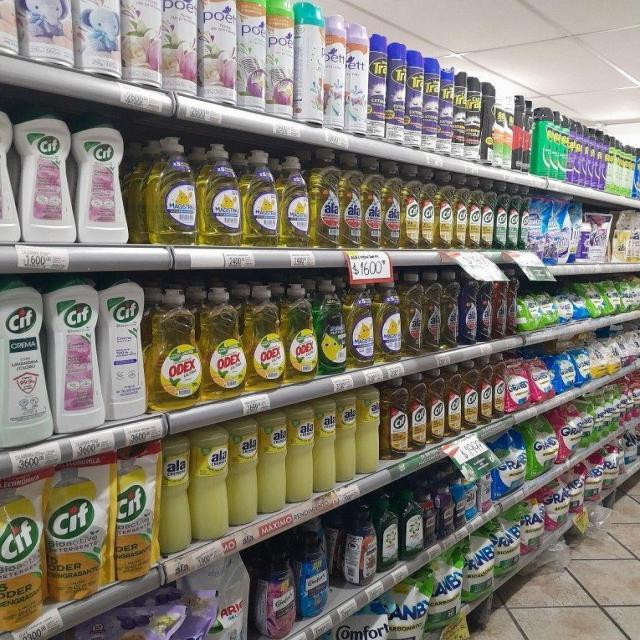ala_conc_amarillo: (311, 152, 339, 248), (340, 156, 360, 249), (361, 159, 381, 249), (382, 165, 401, 249), (402, 273, 421, 357), (422, 271, 440, 354), (441, 271, 458, 350)
ala_conc_azul: (459, 272, 477, 346), (478, 274, 492, 342)
ala_conc_rojo: (493, 278, 506, 339), (506, 278, 516, 338)
ala_crem_amarillo: (191, 424, 228, 541), (160, 433, 190, 555), (229, 416, 258, 526), (259, 409, 286, 514), (288, 403, 314, 503), (357, 384, 381, 474), (314, 395, 336, 493), (336, 391, 356, 483)
cif_conc_bot_amarilla: (382, 376, 408, 460), (401, 168, 420, 249), (409, 372, 427, 451), (428, 368, 445, 443), (446, 363, 462, 437), (420, 177, 436, 250), (437, 178, 453, 249), (462, 360, 478, 429), (453, 180, 467, 250), (479, 358, 492, 422), (481, 185, 494, 249), (468, 183, 480, 249), (493, 359, 504, 418)
cif_conc_botella_verde: (400, 489, 423, 559), (378, 492, 398, 572), (494, 188, 507, 250), (508, 189, 519, 251), (518, 192, 527, 250)
cif_conc_sachet_amarillo: (47, 462, 109, 600), (0, 483, 45, 630), (111, 448, 158, 580)
magistral_con_amarillo: (145, 136, 196, 244), (198, 142, 240, 246), (242, 149, 278, 247), (280, 154, 310, 248), (347, 281, 374, 368), (375, 278, 401, 363)
